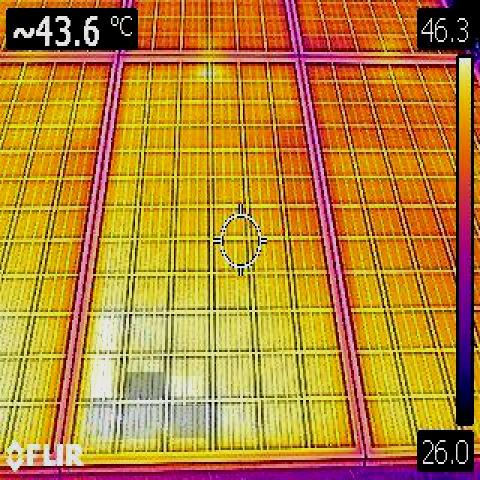fault: (122, 403, 162, 439), (172, 405, 206, 438), (126, 372, 164, 398), (86, 401, 111, 438), (92, 356, 112, 397), (96, 316, 116, 350), (172, 376, 202, 397)
